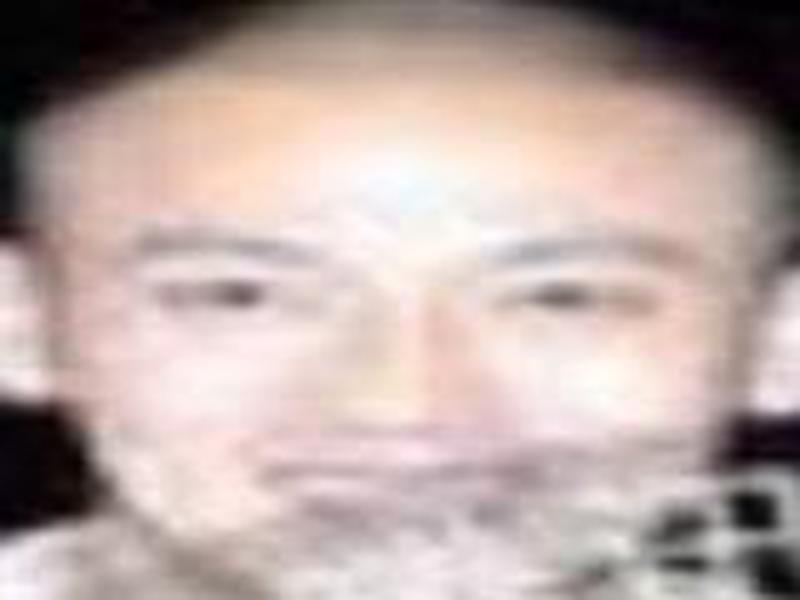without_mask: (38, 93, 755, 597)
